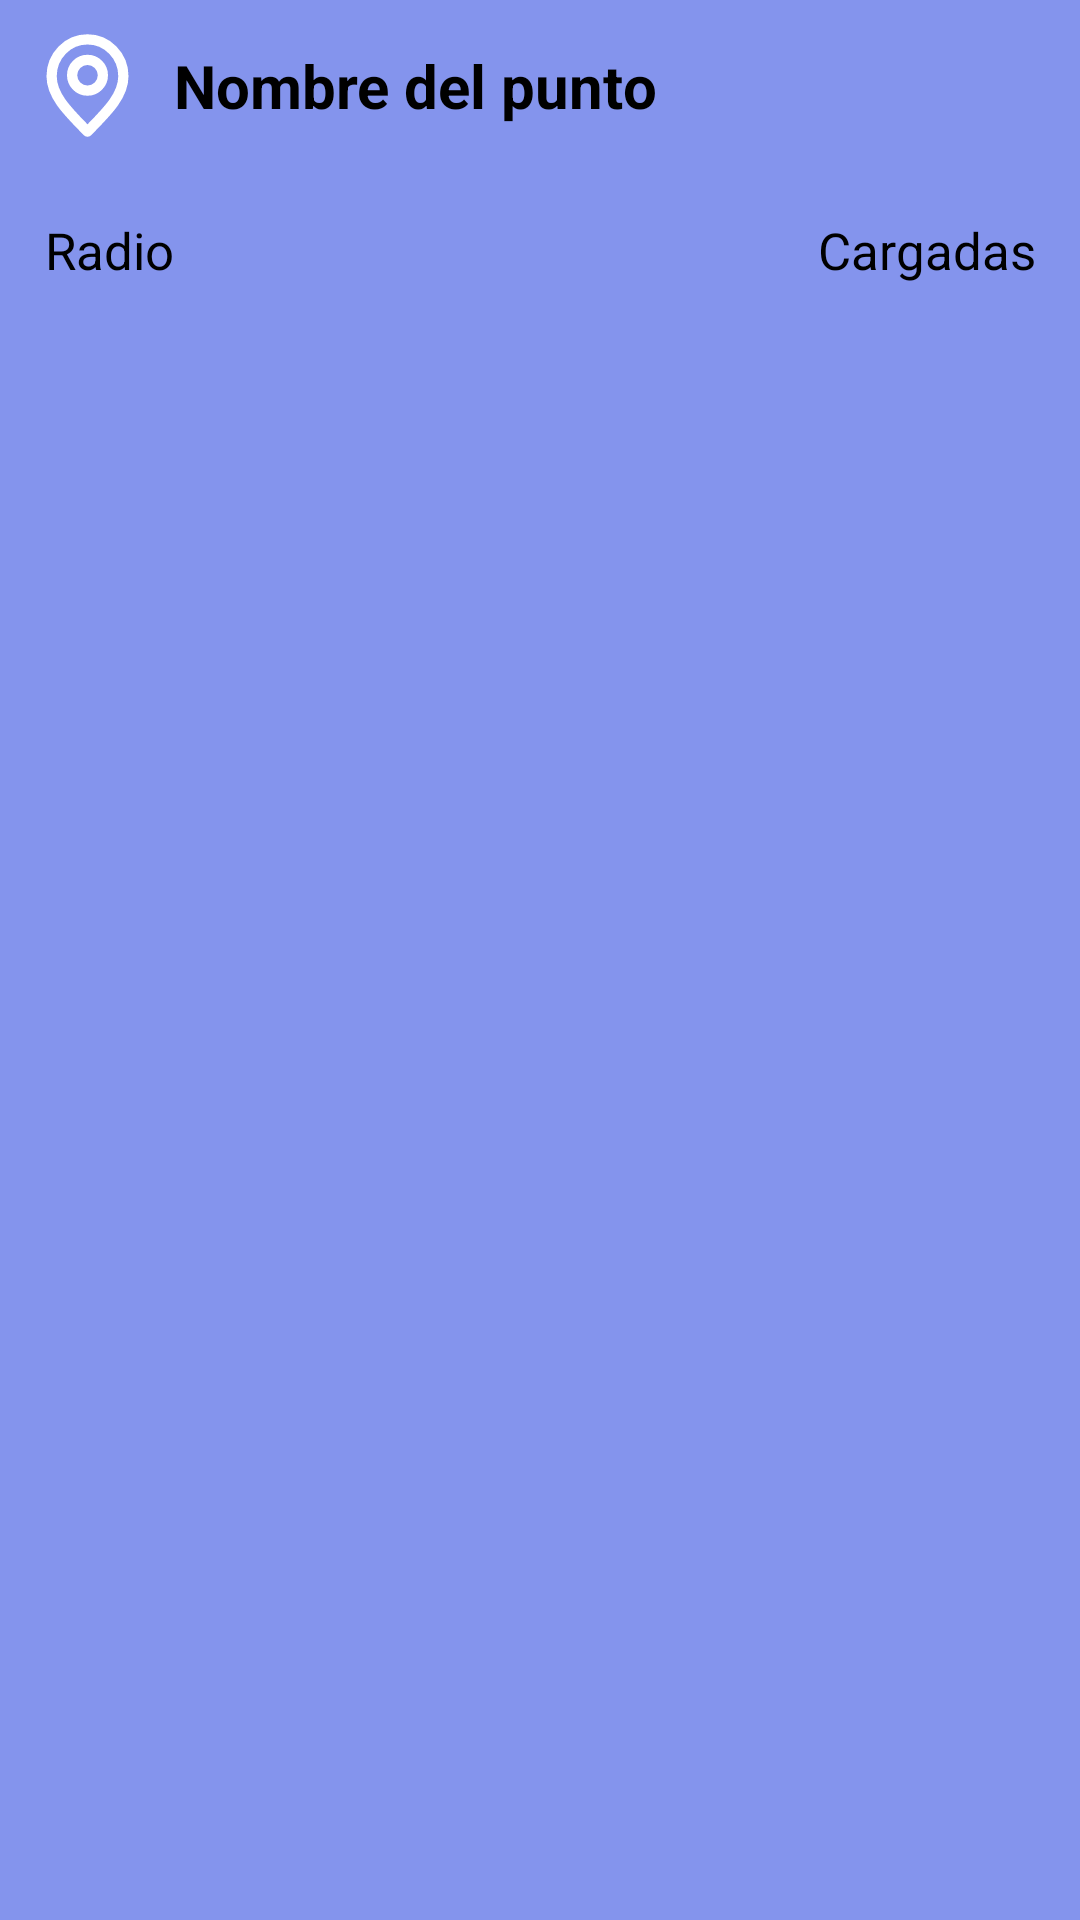

Where to tap for icons on this 1080px x 1920px app screen, as (x=x, y=y):
location: (x=87, y=85)
